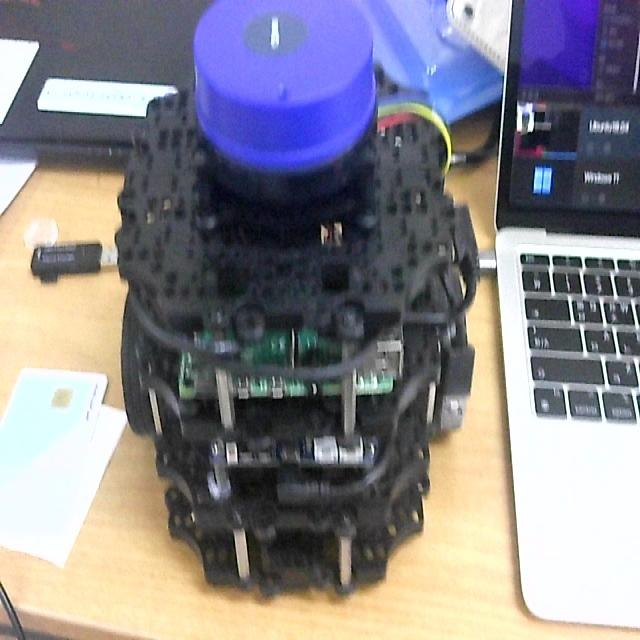turtle: (113, 0, 479, 600)
